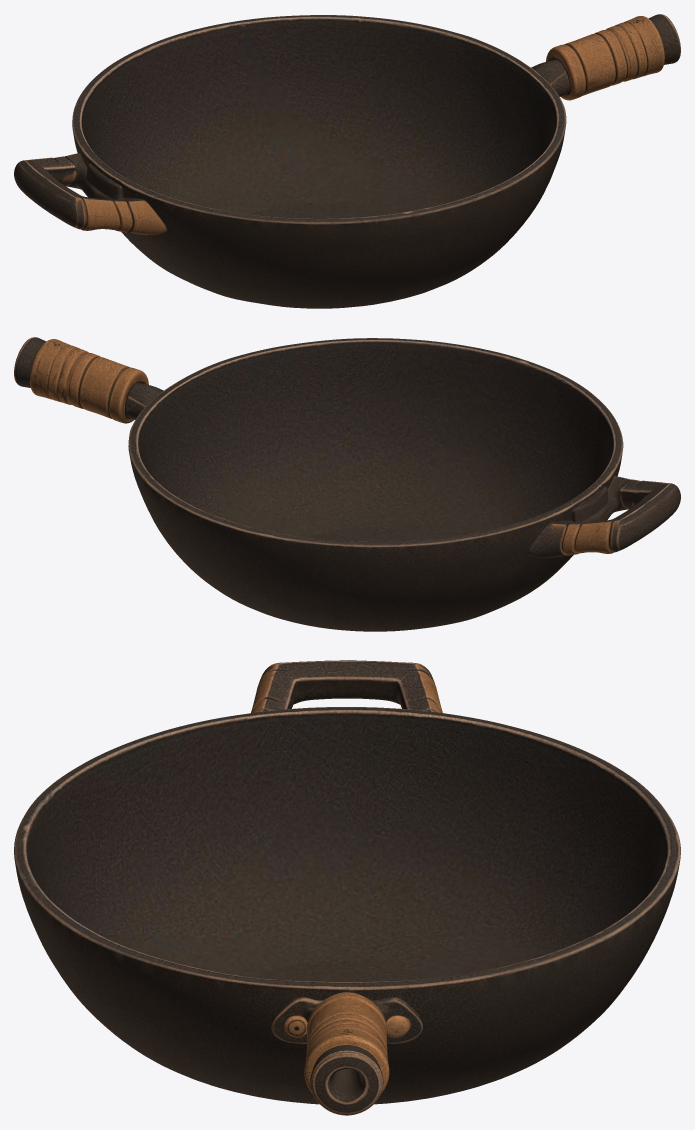
File: pan.glb
3 views of the same model, one above another, from view 1: azimuth 30°, elevation 25°; view 2: azimuth 150°, elevation 25°; view 3: azimuth 270°, elevation 25° (orthographic). The views are drawn at different scales.
Parts seen in each view (by area): view 1: Mesh_0; view 2: Mesh_0; view 3: Mesh_0.
Part boxes in pixels (<box>): Mesh_0: <box>14,14,680,308</box>; Mesh_0: <box>14,337,680,631</box>; Mesh_0: <box>14,660,680,1115</box>.
Bounding box in the file's own units: 1.9 × 0.4555 × 1.28.
Materials: 1 (1 with a texture image).
